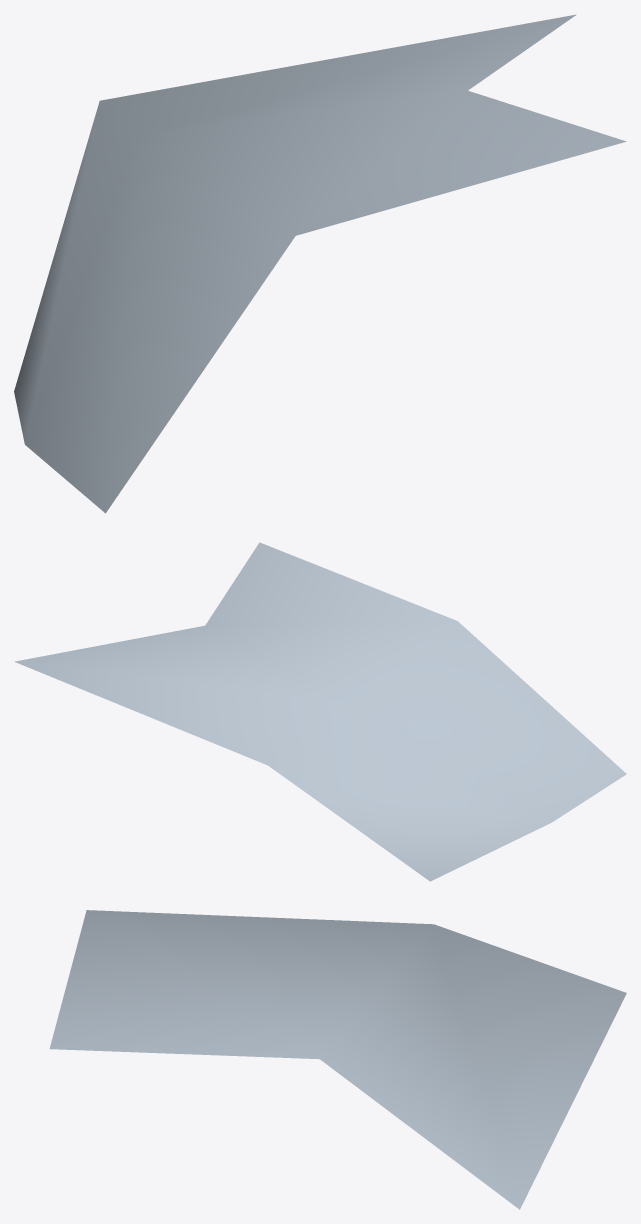
File: acromioclavicular-ligament-r.glb
3 renders of one model, top to bottom at view 1: azimuth 30°, elevation 25°; view 2: azimuth 150°, elevation 25°; view 3: azimuth 270°, elevation 25°, orthographic. The views are drawn at different scales.
Parts seen in each view (by area): view 1: Acromioclavicular ligament.r; view 2: Acromioclavicular ligament.r; view 3: Acromioclavicular ligament.r.
Boxes of the visible parts, <box> form: Acromioclavicular ligament.r: <box>14,14,626,513</box>; Acromioclavicular ligament.r: <box>14,542,626,881</box>; Acromioclavicular ligament.r: <box>49,910,626,1209</box>.
Size of the model in its own units: 0.0279 by 0.0105 by 0.0189.
